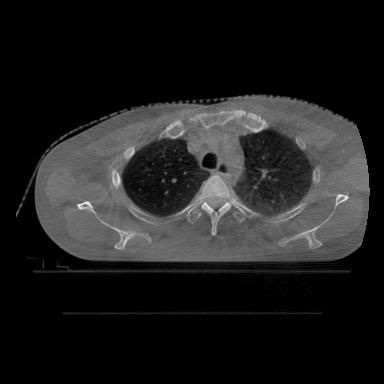body: (34, 95, 368, 262)
cord: (200, 175, 234, 237)
paru kanan: (122, 139, 210, 216)
paru kiri: (234, 129, 313, 215)
